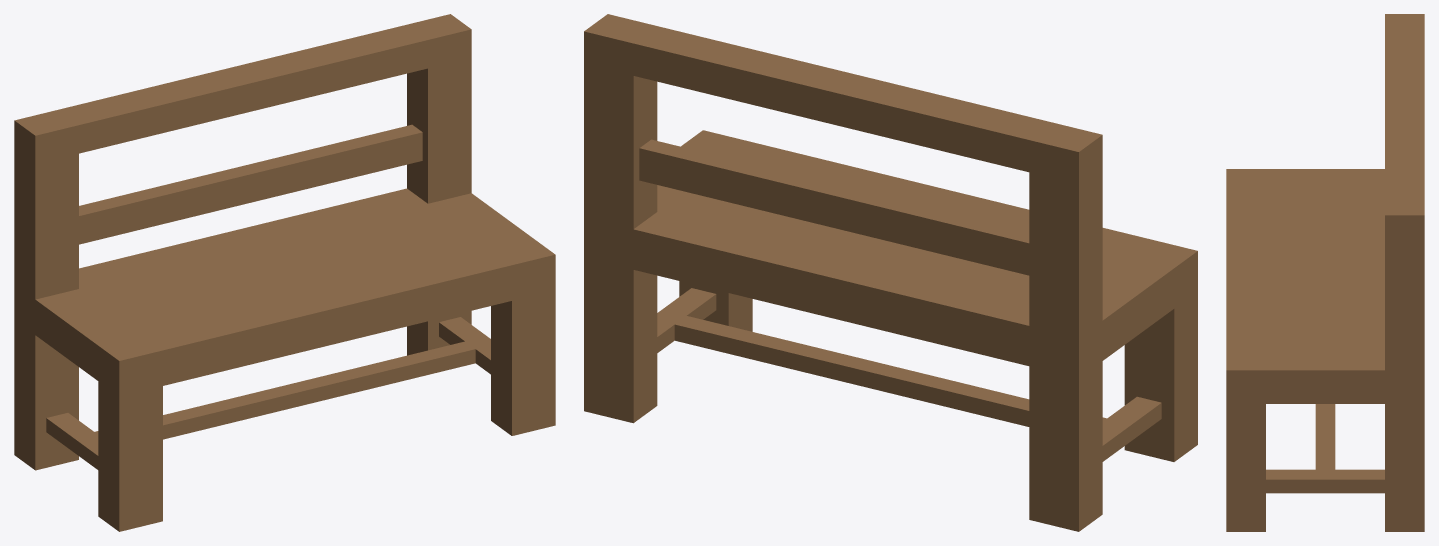
File: outdoor-bench.glb
The picture shows the model from 3 angles, left to right: view 1: azimuth 30°, elevation 25°; view 2: azimuth 150°, elevation 25°; view 3: azimuth 270°, elevation 25°; orthographic projection. The views are drawn at different scales.
Parts seen in each view (by area): view 1: outdoor-bench; view 2: outdoor-bench; view 3: outdoor-bench.
Part boxes in pixels (x1,y1,x2,y2): outdoor-bench: [14, 14, 555, 531]; outdoor-bench: [584, 14, 1197, 531]; outdoor-bench: [1226, 14, 1424, 531].
Bounding box in the file's own units: 1.2 × 0.88 × 0.5.
